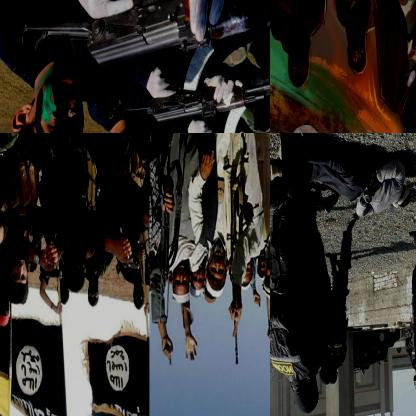pistol: (118, 236, 144, 274), (41, 250, 67, 283)
rifle: (19, 0, 269, 69), (107, 34, 269, 126), (159, 99, 269, 132), (158, 137, 180, 294)
